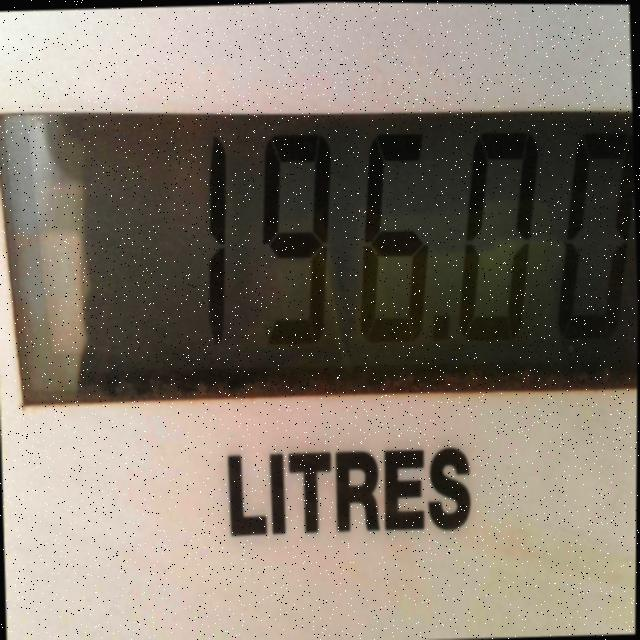.: (437, 316, 449, 340)
0: (454, 128, 538, 348), (551, 129, 635, 341)
1: (204, 141, 232, 344)
6: (358, 133, 433, 336)
9: (255, 131, 337, 351)
